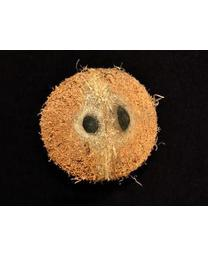coconut: (38, 64, 161, 181)
